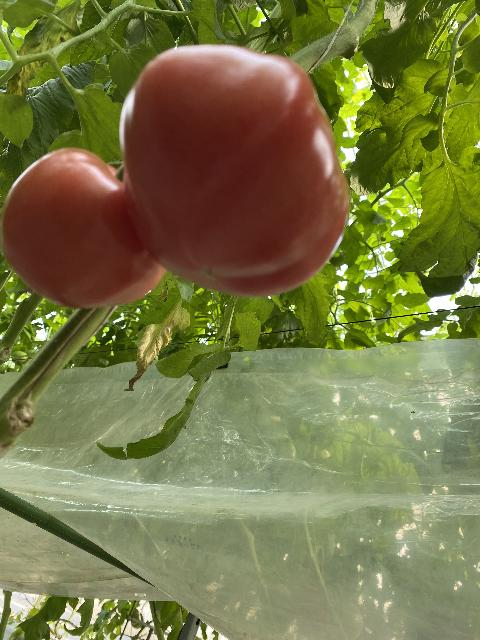b_fully_ripened: (119, 44, 349, 297), (1, 147, 167, 309)
